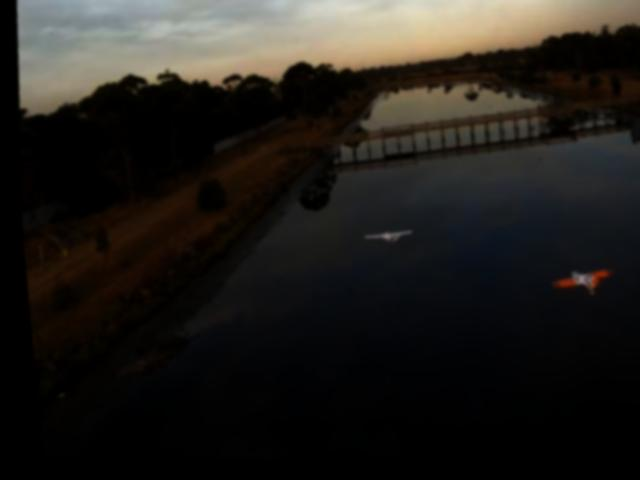uav: (543, 264, 614, 309), (355, 227, 411, 254)
